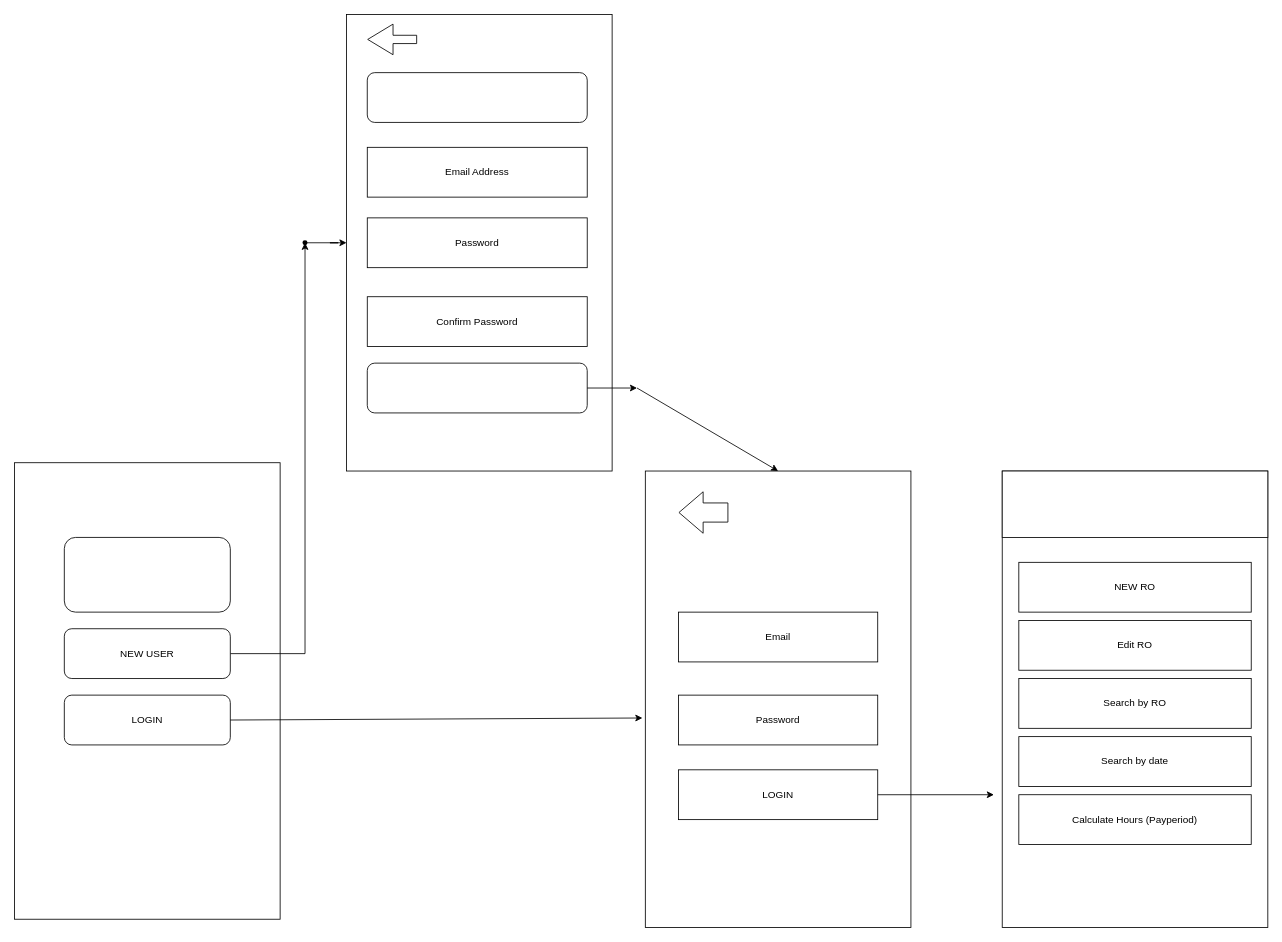
The diagram is 1282 pixels wide and 942 high, and some of its shapes have lost their labels. The centre of each missing label's shape, as x and y in pixels:
"Create Account" belongs at pixel 476 387.
"CREATE ACCOUNT HEADER" belongs at pixel 476 97.
"Hello {Email}!" belongs at pixel 1134 503.
"NAME OF APPLICATION" belongs at pixel 146 574.
